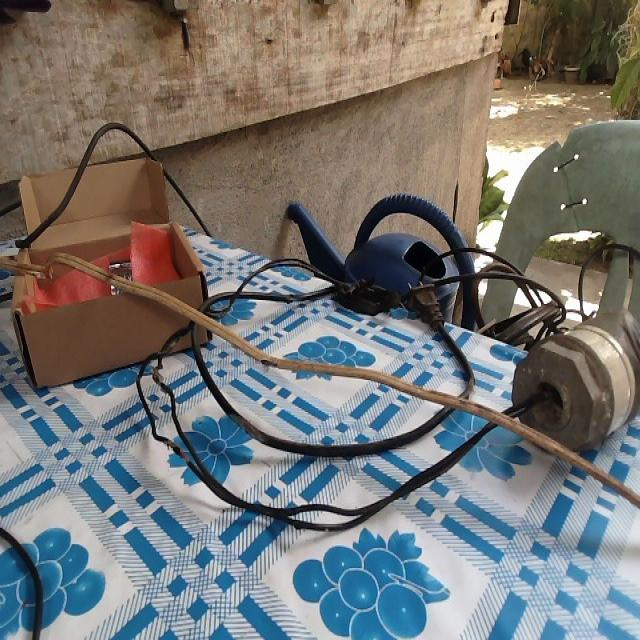-: (231, 413, 262, 444), (160, 439, 187, 464), (259, 355, 276, 365)
